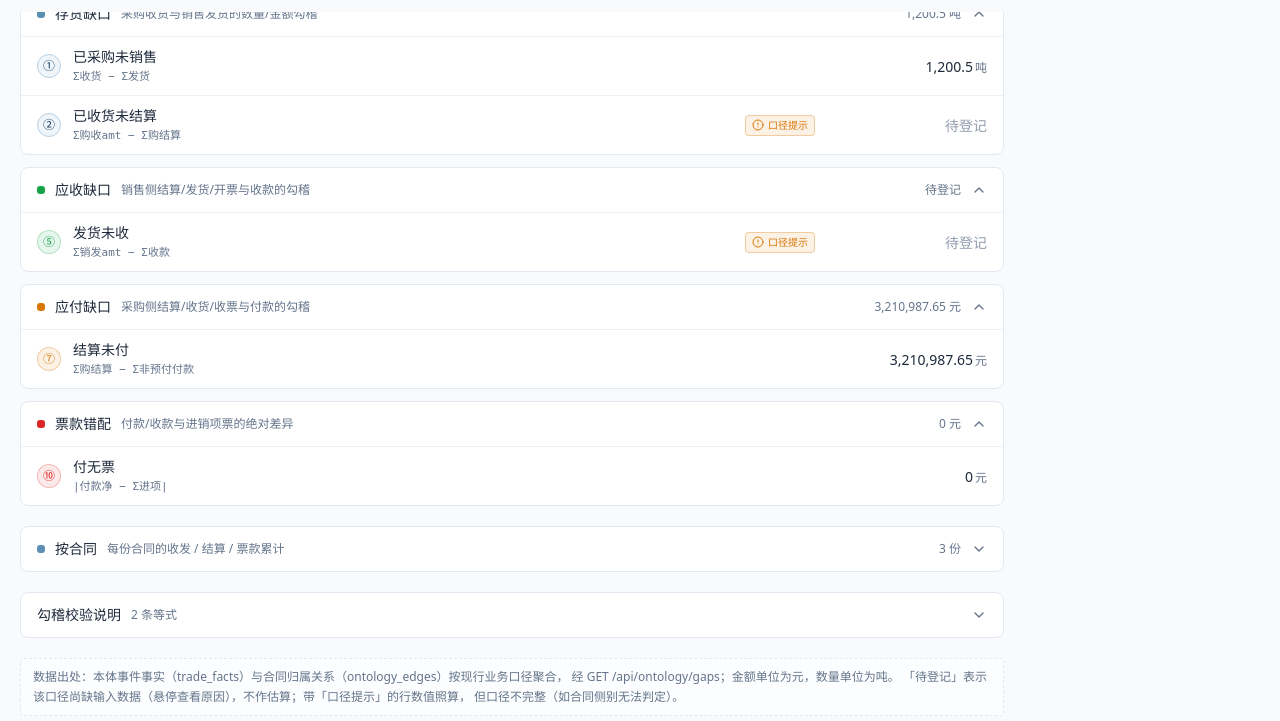
it: GapsPanel 按合同下钻 (wave8) › 侧别徽标: buy=购 / sell=销 / null=未定侧(带无法判定 tooltip)
(page scrolled)
Click the text "按合同".
click(76, 549)  # box [55, 539, 97, 559]
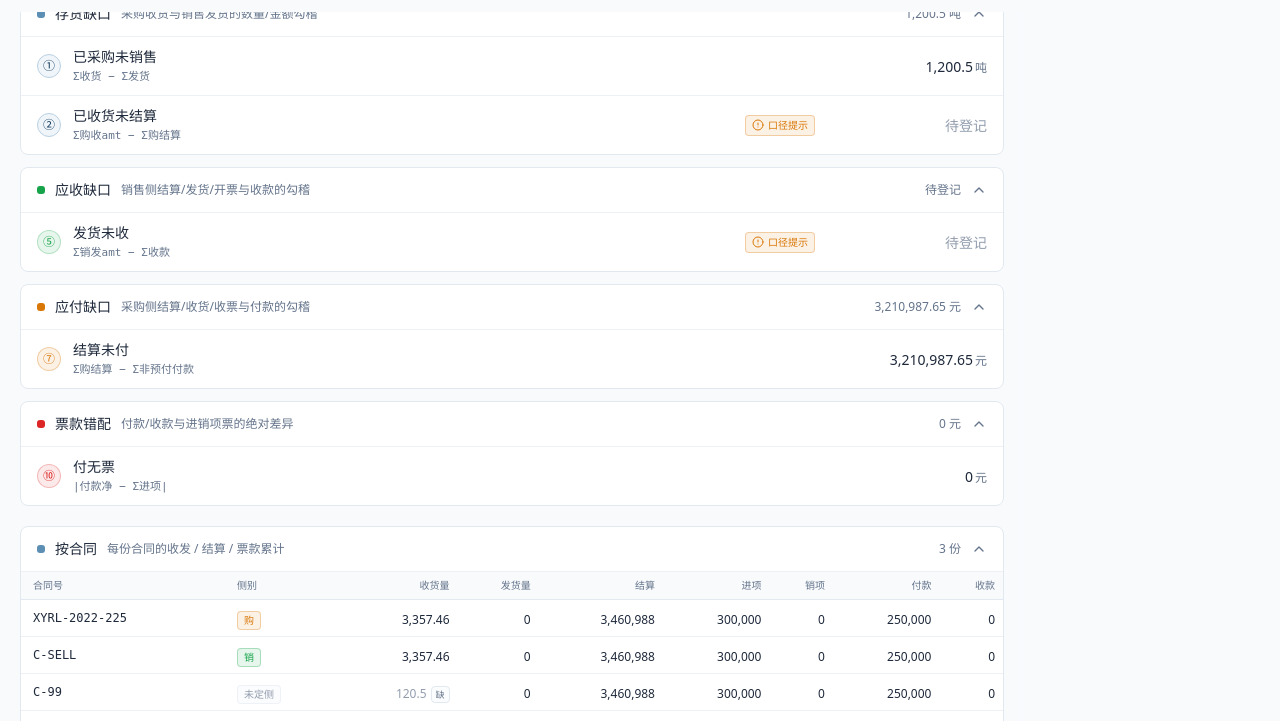
Check: the text "C-99" is shown, box [21, 674, 229, 710]
Check: the text "购" is shown, box [237, 611, 261, 630]
Check: the text "销" is shown, box [237, 648, 261, 667]
